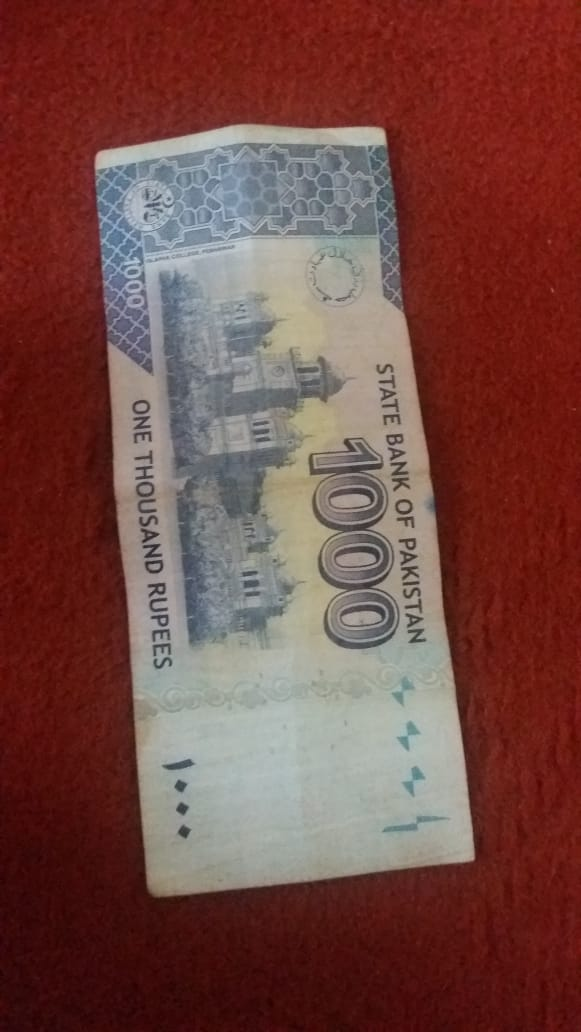1000 rupee: (58, 103, 488, 927)
